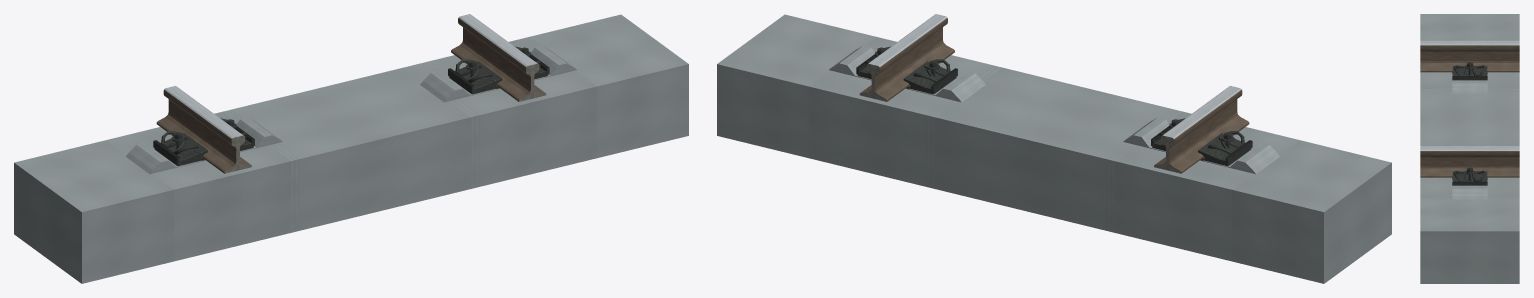
File: slab_high.obj
3 views of the same model, side by side, from view 1: azimuth 30°, elevation 25°; view 2: azimuth 150°, elevation 25°; view 3: azimuth 270°, elevation 25° (orthographic). The views are drawn at different scales.
Visible parts, largest first — view 1: slab_bed, rail_left, rail_right, sleeper, fastener_right, fastener_left; view 2: slab_bed, rail_left, rail_right, sleeper, fastener_right, fastener_left; view 3: slab_bed, rail_left, rail_right, sleeper, fastener_left, fastener_right.
Boxes of the visible parts, <box> form: slab_bed: <box>14,14,688,283</box>; rail_left: <box>156,86,250,173</box>; rail_right: <box>451,14,544,101</box>; sleeper: <box>126,45,576,174</box>; fastener_right: <box>448,46,549,94</box>; fastener_left: <box>153,118,254,166</box>; slab_bed: <box>717,14,1391,283</box>; rail_left: <box>1155,86,1249,173</box>; rail_right: <box>861,14,954,101</box>; sleeper: <box>829,45,1279,174</box>; fastener_right: <box>856,46,957,94</box>; fastener_left: <box>1151,118,1252,166</box>; slab_bed: <box>1420,14,1519,283</box>; rail_left: <box>1420,40,1519,72</box>; rail_right: <box>1420,146,1519,177</box>; sleeper: <box>1452,74,1487,199</box>; fastener_left: <box>1452,62,1487,80</box>; fastener_right: <box>1452,167,1487,185</box>.
Size of the model in its own units: 3.1 by 0.5324 by 0.6.
